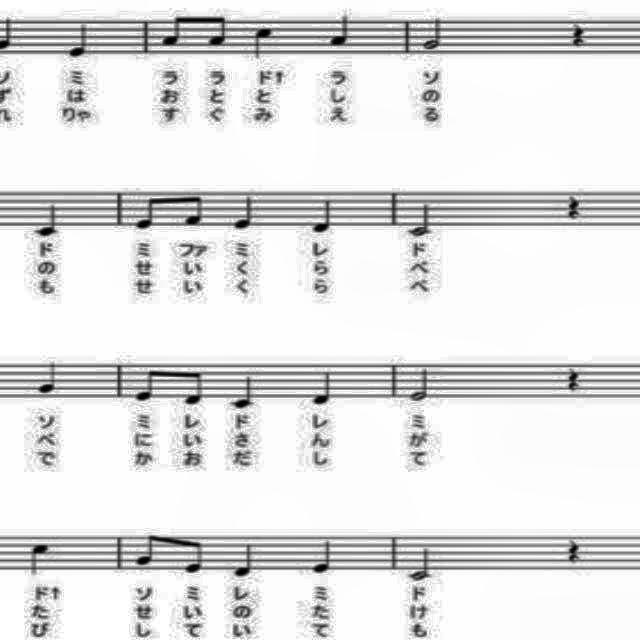Eighth-note: (126, 360, 166, 404), (131, 188, 165, 234), (202, 6, 234, 50), (159, 6, 189, 52), (178, 186, 206, 234), (180, 530, 208, 578), (133, 528, 163, 572), (178, 368, 206, 408)
Half-note: (407, 544, 438, 588), (421, 14, 452, 54), (407, 366, 438, 406), (402, 203, 434, 239)
Quarter-note: (304, 364, 340, 408), (226, 368, 260, 412), (28, 198, 60, 242), (62, 20, 94, 60), (32, 358, 64, 398), (230, 193, 260, 235), (232, 536, 260, 580), (304, 537, 336, 575), (326, 6, 354, 49), (308, 195, 336, 237), (25, 536, 51, 580), (246, 25, 278, 59)
Quarter-rest: (558, 188, 590, 226), (562, 15, 590, 50), (561, 534, 587, 570), (564, 361, 588, 395)
